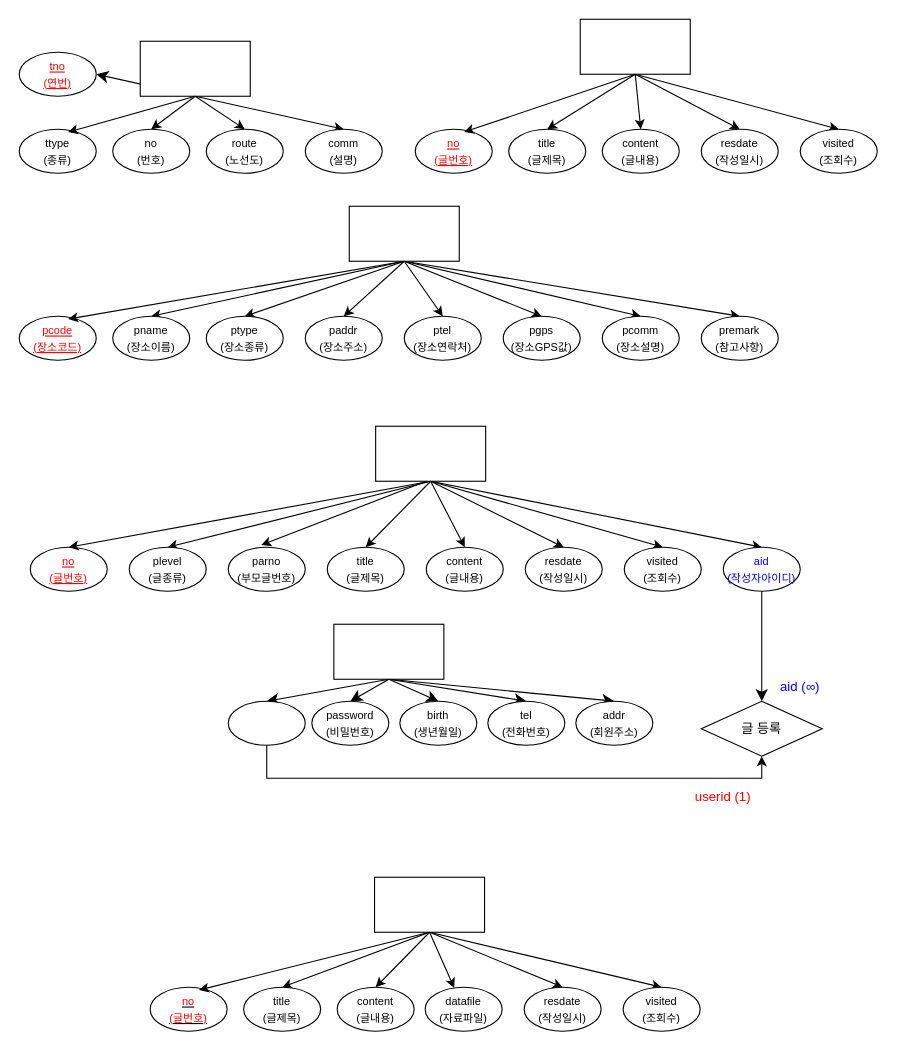
The diagram is 897 pixels wide and 1051 high, and some of its shapes have lost their labels. The centre of each missing label's shape, as x and y in pixels:
"data (자료실)" goes at point (429, 904).
"guide (안내사항)" goes at point (403, 233).
"member (회원)" goes at point (388, 651).
"notice (공지사항)" goes at point (634, 46).
"qna (묻고답하기)" goes at point (430, 453).
"traffic (교통편)" goes at point (194, 68).
"userid (아이디)" goes at point (266, 722).
